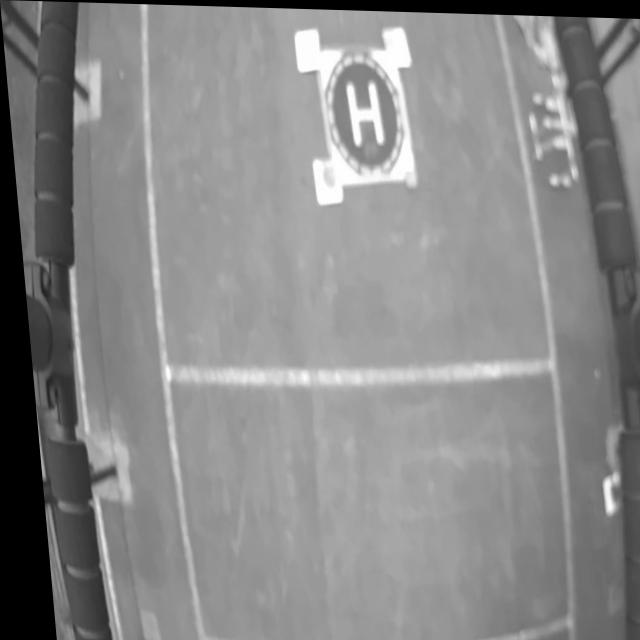Helipad: (344, 79, 383, 146)
